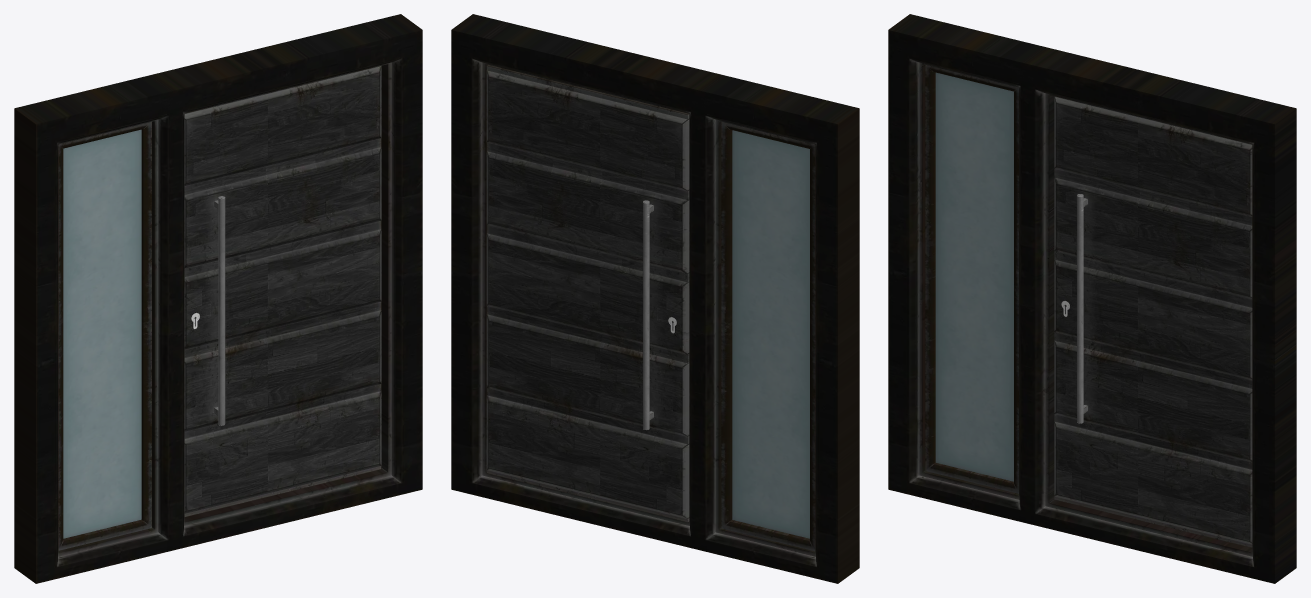
File: d_wood_side.glb
3 renders of one model, left to right at view 1: azimuth 30°, elevation 25°; view 2: azimuth 150°, elevation 25°; view 3: azimuth 330°, elevation 25°, orthographic.
Parts seen in each view (by area): view 1: door_Door_tex_0; view 2: door_Door_tex_0; view 3: door_Door_tex_0.
Boxes of the visible parts, bbox=[...] form: door_Door_tex_0: bbox=[14, 14, 422, 583]; door_Door_tex_0: bbox=[451, 14, 859, 583]; door_Door_tex_0: bbox=[888, 14, 1296, 583].
Size of the model in its own units: 2.03 by 2.3 by 0.2384.
1 material, 1 textured.
